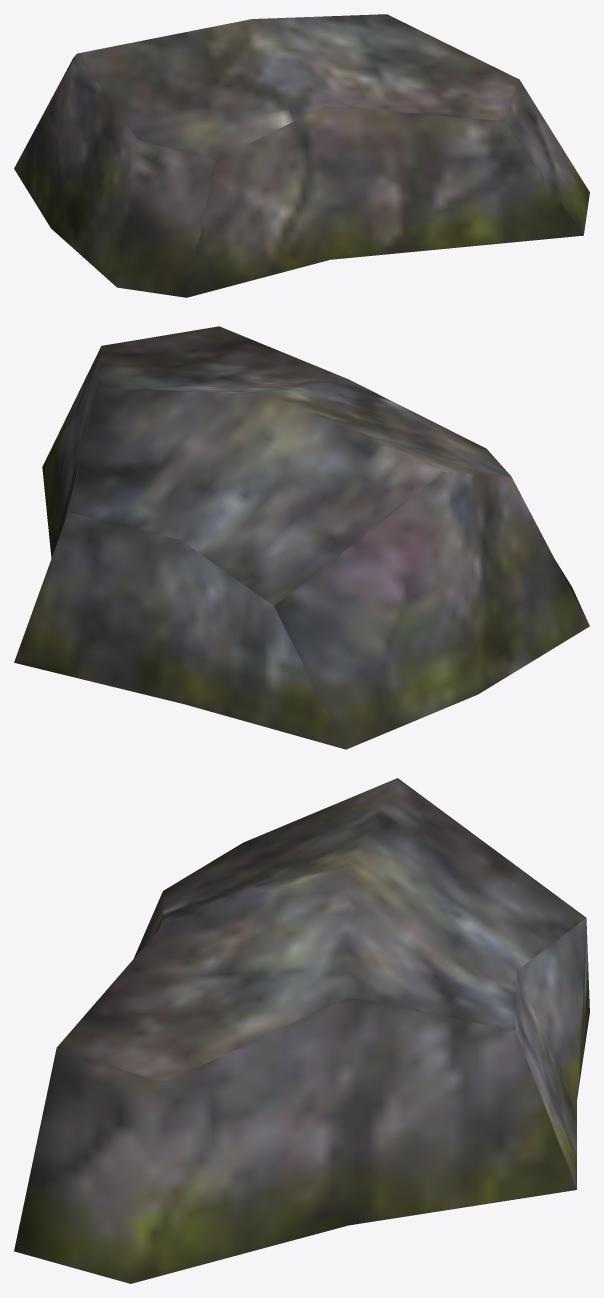
Rendered from yw_roc001.FBX.
3 renders of one model, top to bottom at view 1: azimuth 30°, elevation 25°; view 2: azimuth 150°, elevation 25°; view 3: azimuth 270°, elevation 25°, orthographic. The views are drawn at different scales.
Visible parts, largest first — view 1: yw_roc001; view 2: yw_roc001; view 3: yw_roc001.
Boxes of the visible parts, <box> form: yw_roc001: <box>14,14,589,297</box>; yw_roc001: <box>14,326,589,749</box>; yw_roc001: <box>14,778,589,1283</box>.
Size of the model in its own units: 1.19 by 0.4471 by 0.9605.
